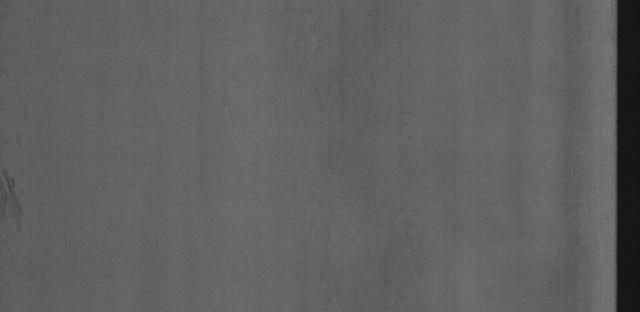silk_spot: (270, 31, 441, 288)
water_spot: (2, 165, 57, 240)
